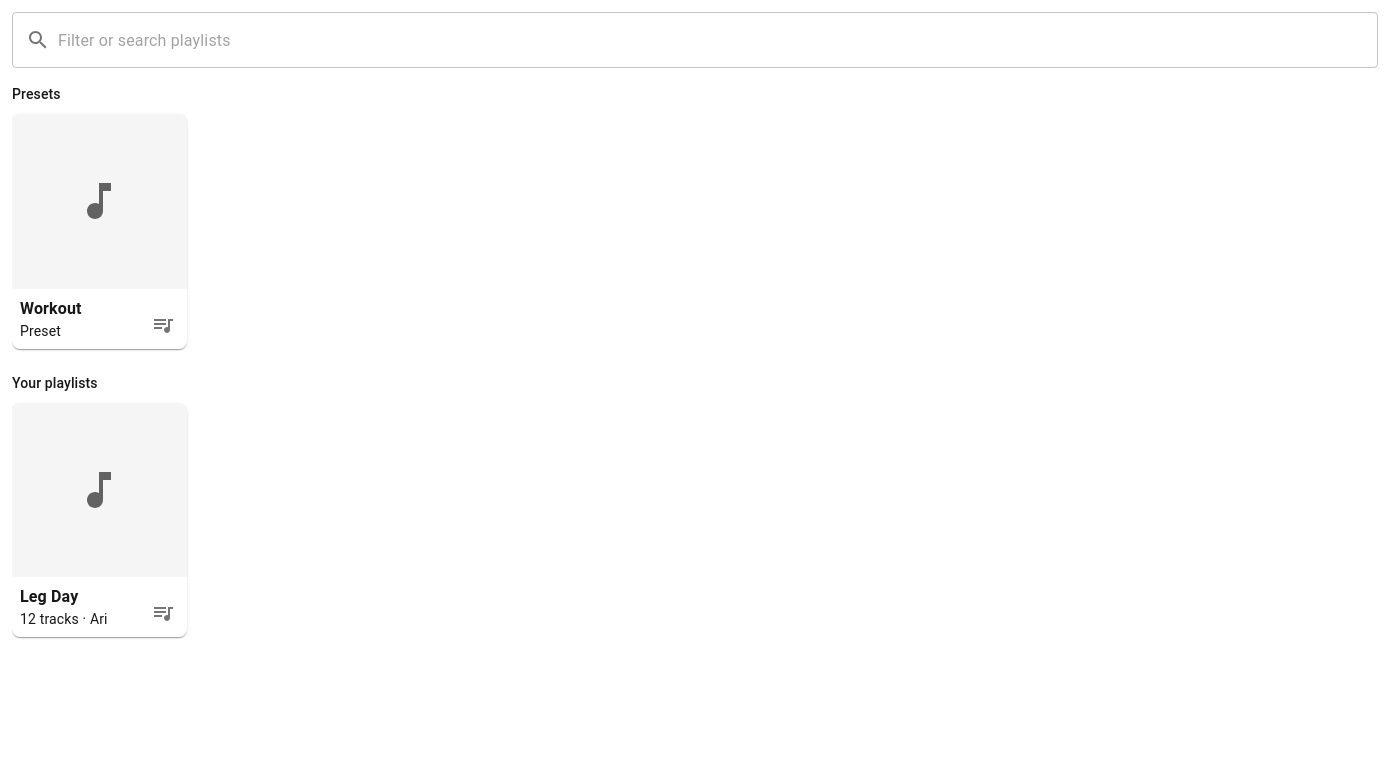
it: PlaylistQuickGrid › stops the search spinner when the filter is cleared mid-search
expect the button with aria-label "Play playlist: Workout" is shown: met, box [12, 114, 187, 348]
Type "leg" into the field labelled "Filter or search playlists". click: x=718, y=40
box: [58, 12, 1378, 68]
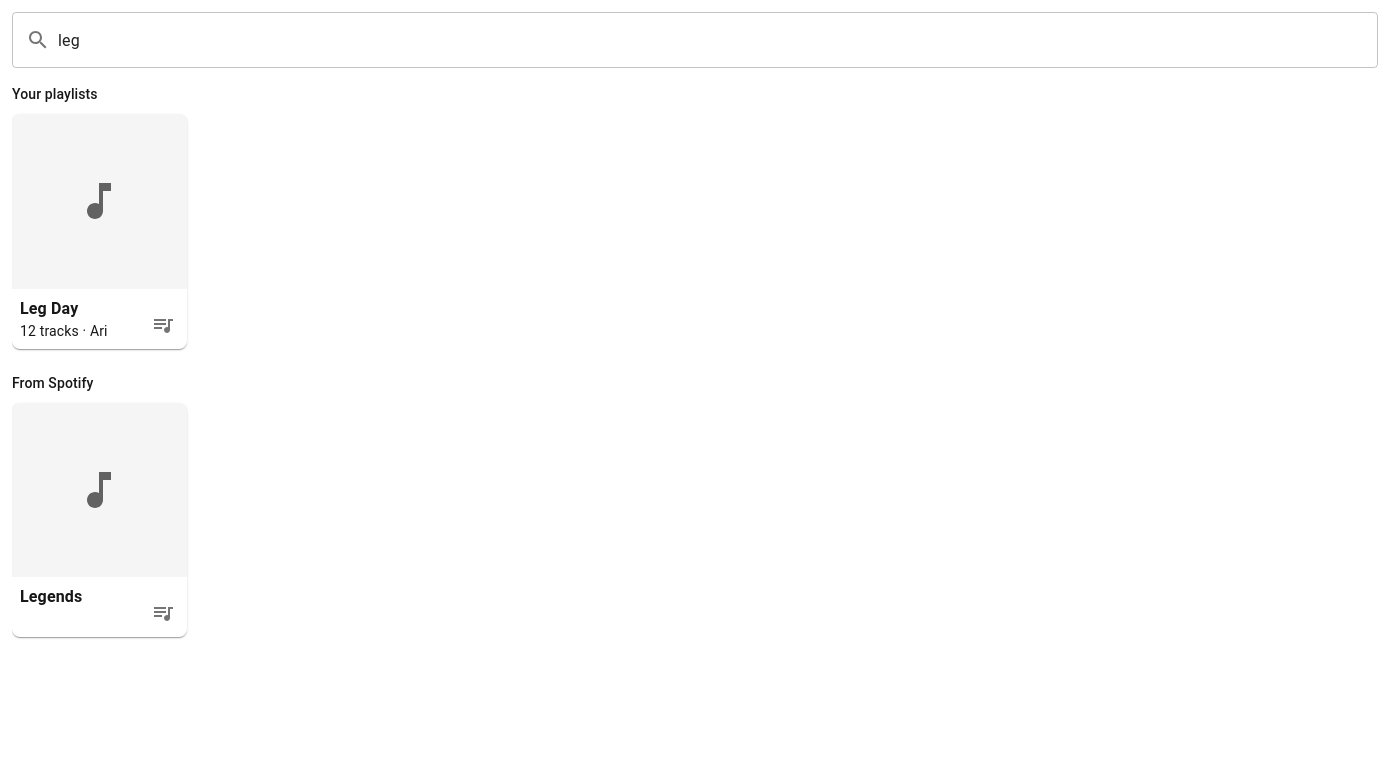
expect the button with aria-label "Play playlist: Legends" is shown: met, box [12, 402, 187, 637]
Clear the field named "Filter or search playlists". click: x=718, y=40
box: [58, 12, 1378, 68]
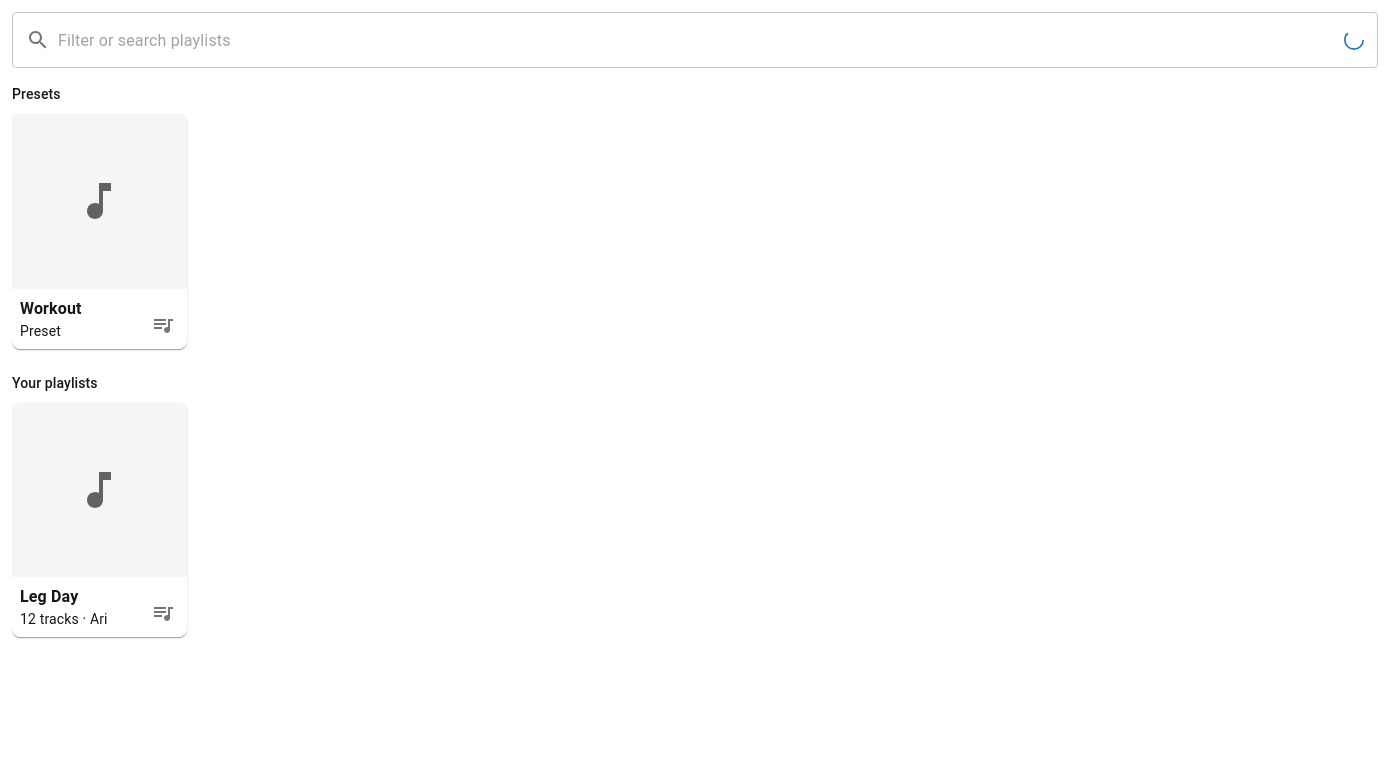
expect the button with aria-label "Play playlist: Workout" is shown: met, box [12, 114, 187, 348]
